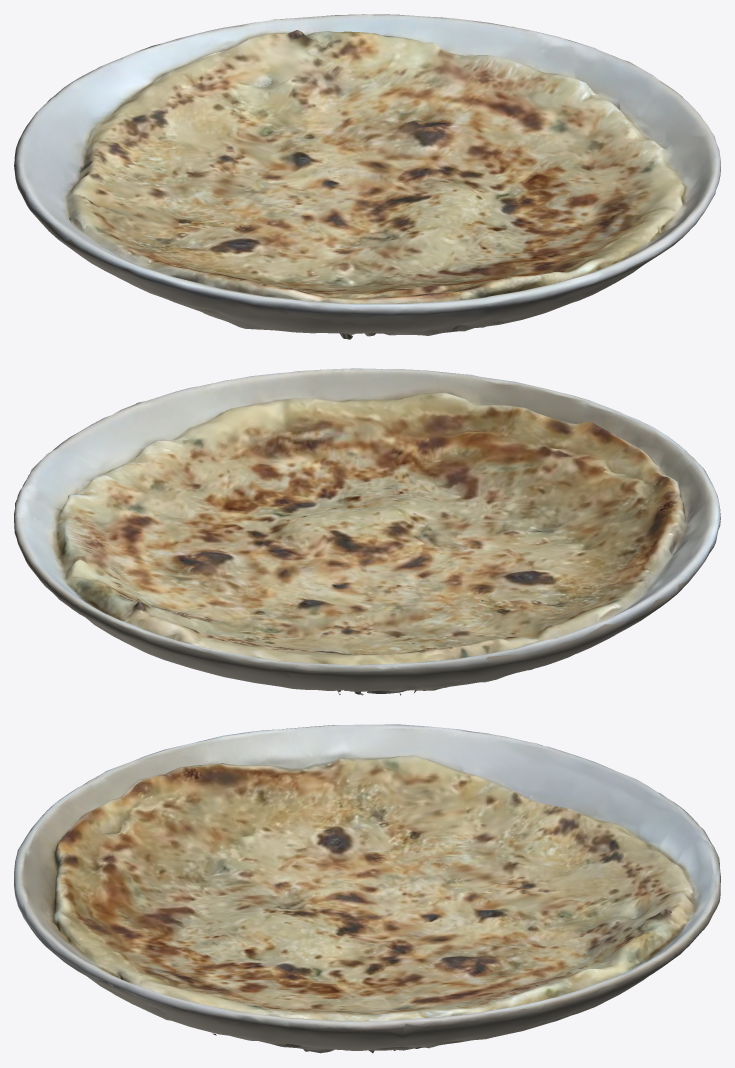
Rendered from scallion_pancake.glb.
The picture shows the model from 3 angles, top to bottom: view 1: azimuth 30°, elevation 25°; view 2: azimuth 150°, elevation 25°; view 3: azimuth 270°, elevation 25°; orthographic projection.
Parts seen in each view (by area): view 1: Object_4, Object_5, Object_6, Object_8; view 2: Object_4, Object_5, Object_6, Object_8; view 3: Object_4, Object_5, Object_6, Object_8.
Part boxes in pixels (left/top/right/bottom): Object_4: left=14, top=14, right=720, bottom=338; Object_5: left=18, top=21, right=711, bottom=316; Object_6: left=23, top=25, right=720, bottom=303; Object_8: left=14, top=136, right=704, bottom=339; Object_4: left=14, top=368, right=720, bottom=672; Object_5: left=14, top=373, right=708, bottom=669; Object_6: left=17, top=387, right=705, bottom=669; Object_8: left=15, top=506, right=712, bottom=695; Object_4: left=14, top=724, right=720, bottom=1048; Object_5: left=28, top=731, right=715, bottom=1031; Object_6: left=40, top=752, right=720, bottom=1027; Object_8: left=30, top=850, right=720, bottom=1053.
Bounding box in the file's own units: 2.18 × 0.274 × 2.18.
5 materials, 4 textured.
